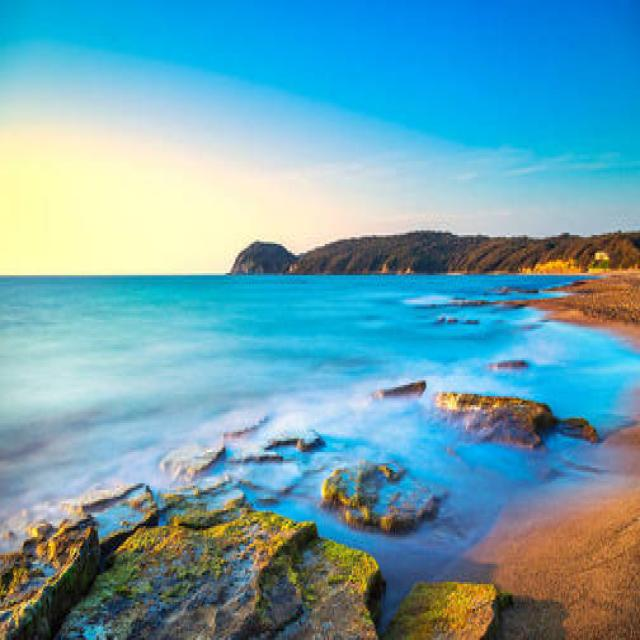island: (223, 201, 640, 291)
